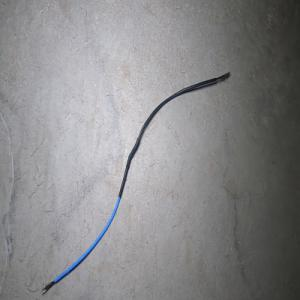Wire: (41, 70, 230, 294)
